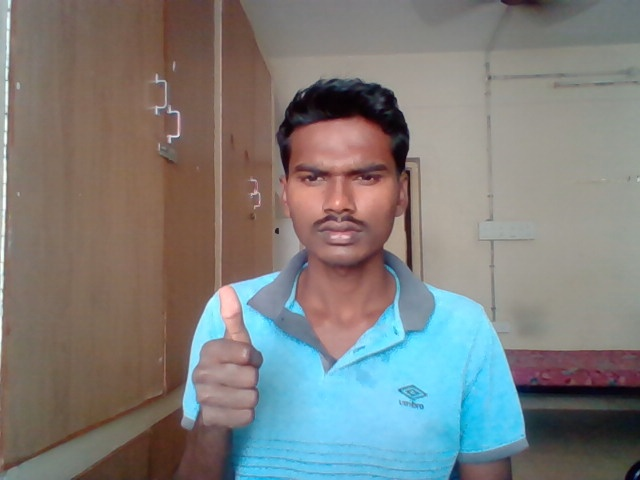Yes: (191, 285, 263, 434)
